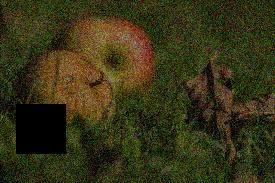rotten apple: (12, 52, 118, 121)
